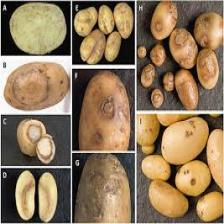Damaged potato: (72, 3, 136, 70), (3, 60, 70, 110), (135, 112, 161, 154), (80, 28, 106, 63)
Defected potato: (9, 1, 69, 54)
Diseased-fungal potato: (80, 70, 132, 152), (78, 154, 130, 224), (4, 171, 68, 224), (169, 25, 198, 68), (16, 116, 46, 157), (194, 12, 224, 50), (150, 2, 178, 40), (196, 47, 220, 90), (176, 69, 199, 107), (34, 132, 58, 164), (116, 4, 135, 36), (76, 6, 96, 34), (108, 31, 122, 63), (98, 6, 114, 32), (148, 44, 166, 67), (141, 64, 156, 87), (149, 87, 164, 108), (164, 71, 174, 91)
Potato: (160, 118, 210, 164), (149, 182, 192, 219), (174, 159, 212, 195), (207, 128, 224, 191), (195, 191, 223, 219), (142, 155, 171, 180), (155, 114, 198, 125)
